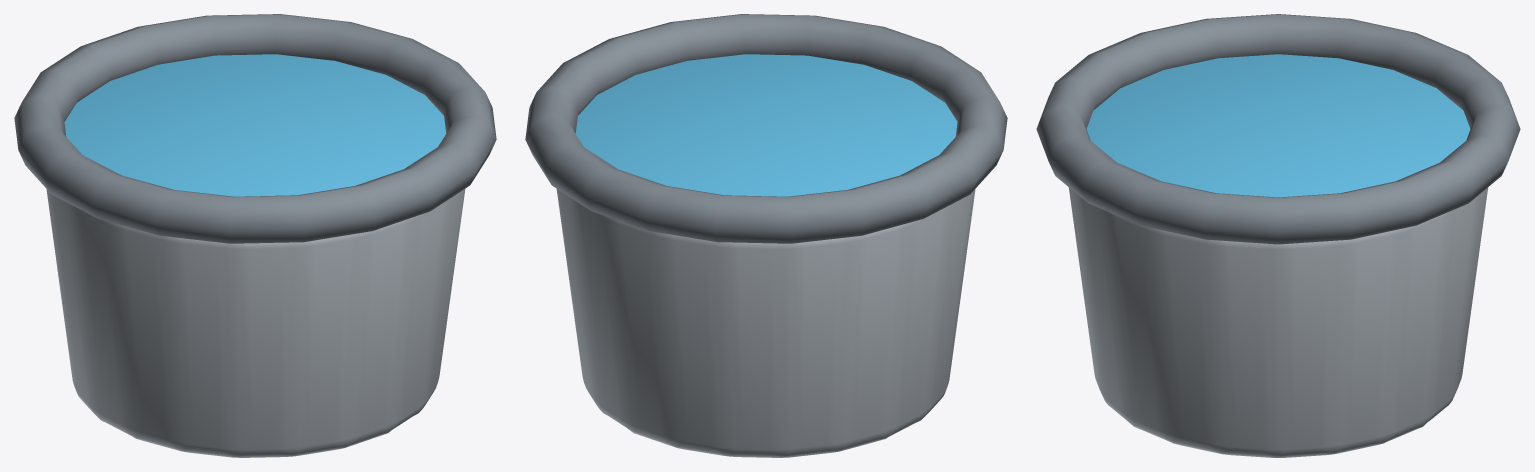
Rendered from Bucket.fbx.
The picture shows the model from 3 angles, left to right: view 1: azimuth 30°, elevation 25°; view 2: azimuth 150°, elevation 25°; view 3: azimuth 270°, elevation 25°; orthographic projection.
Parts seen in each view (by area): view 1: Bucket; view 2: Bucket; view 3: Bucket.
Part boxes in pixels (x1,y1,x2,y2): Bucket: (14,14,496,457); Bucket: (525,14,1007,457); Bucket: (1036,14,1520,457).
Size of the model in its own units: 0.58 by 0.37 by 0.58.
1 material, 1 textured.
